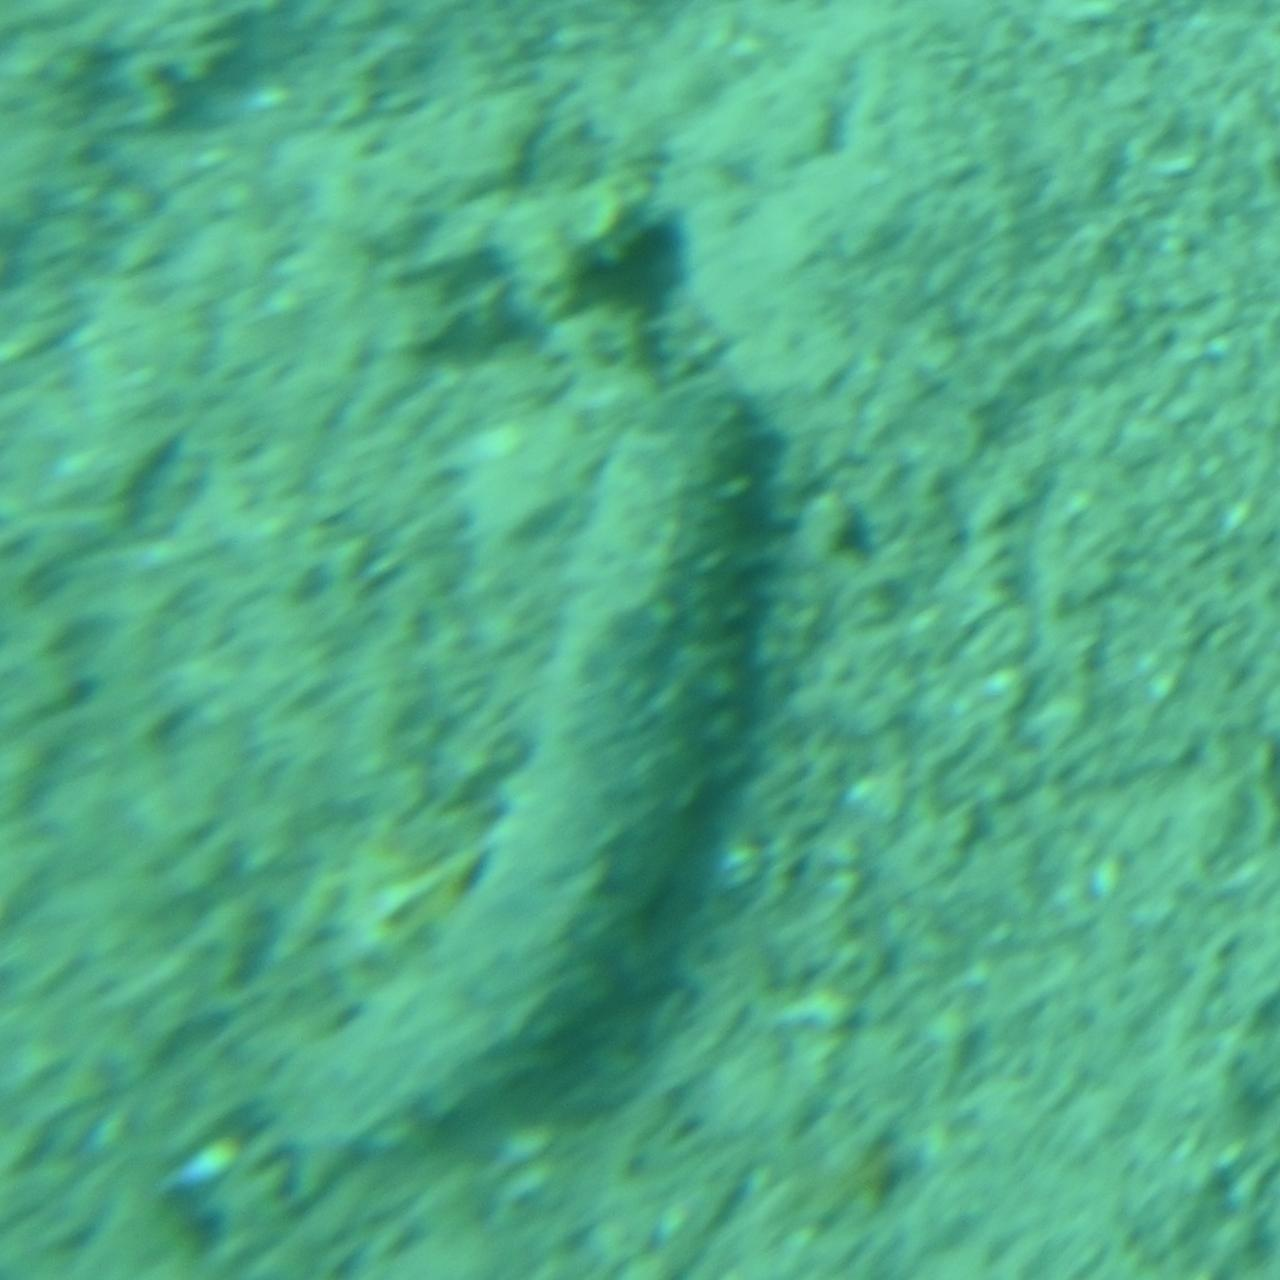Holothuria tubulosa: (259, 372, 789, 1183)
